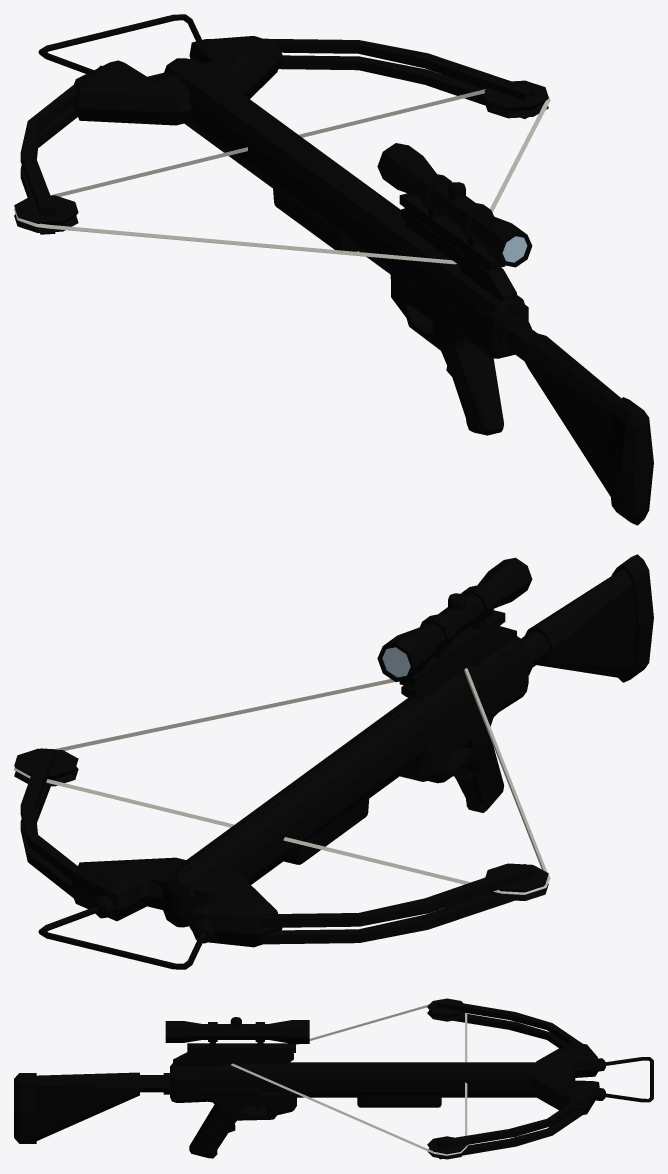
The model's file is arbalete.glb.
3 renders of one model, top to bottom at view 1: azimuth 30°, elevation 25°; view 2: azimuth 150°, elevation 25°; view 3: azimuth 270°, elevation 25°, orthographic. The views are drawn at different scales.
Parts seen in each view (by area): view 1: Crossbow; view 2: Crossbow; view 3: Crossbow.
Boxes of the visible parts, bbox=[...] form: Crossbow: bbox=[14, 14, 653, 525]; Crossbow: bbox=[14, 554, 653, 969]; Crossbow: bbox=[14, 998, 653, 1159].
Size of the model in its own units: 1.08 by 0.4475 by 1.88.
1 material, 1 textured.
